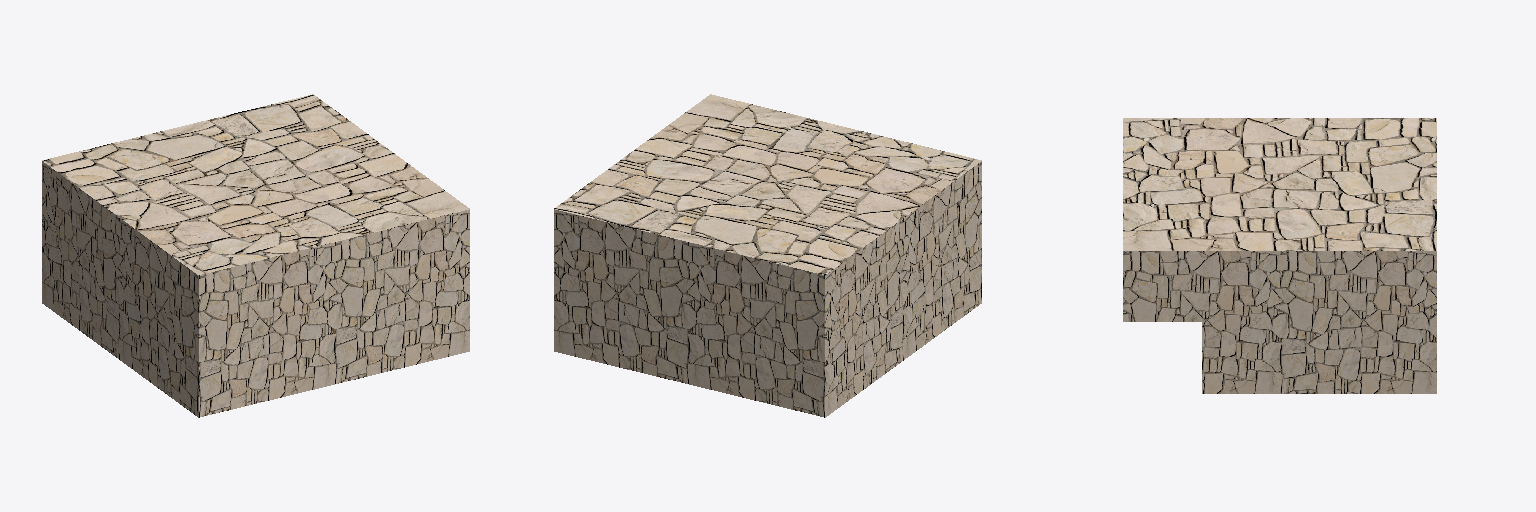
3 renders of one model, left to right at view 1: azimuth 30°, elevation 25°; view 2: azimuth 150°, elevation 25°; view 3: azimuth 270°, elevation 25°, orthographic.
Visible parts, largest first — view 1: Plane.013_Plane, Plane_Plane.002, Plane.005_Plane.007, Plane.006_Plane.009, Plane.004_Plane.006; view 2: Plane.013_Plane, Plane.002_Plane.004, Plane.003_Plane.005, Plane.004_Plane.006, Plane.006_Plane.009; view 3: Plane.013_Plane, Plane.012_Plane.008, Plane.011_Plane.001.
Part boxes in pixels (left/top/right/bottom): Plane.013_Plane: left=42, top=94, right=469, bottom=274; Plane_Plane.002: left=334, top=209, right=469, bottom=384; Plane.005_Plane.007: left=199, top=243, right=333, bottom=417; Plane.006_Plane.009: left=120, top=218, right=198, bottom=417; Plane.004_Plane.006: left=42, top=161, right=119, bottom=359; Plane.013_Plane: left=554, top=94, right=981, bottom=274; Plane.002_Plane.004: left=554, top=209, right=689, bottom=384; Plane.003_Plane.005: left=690, top=243, right=824, bottom=417; Plane.004_Plane.006: left=825, top=218, right=903, bottom=417; Plane.006_Plane.009: left=904, top=161, right=981, bottom=359; Plane.013_Plane: left=1123, top=118, right=1436, bottom=250; Plane.012_Plane.008: left=1280, top=251, right=1436, bottom=393; Plane.011_Plane.001: left=1123, top=251, right=1279, bottom=393.
Bounding box in the file's own units: 10 × 5 × 10.
1 materials, 1 textured.